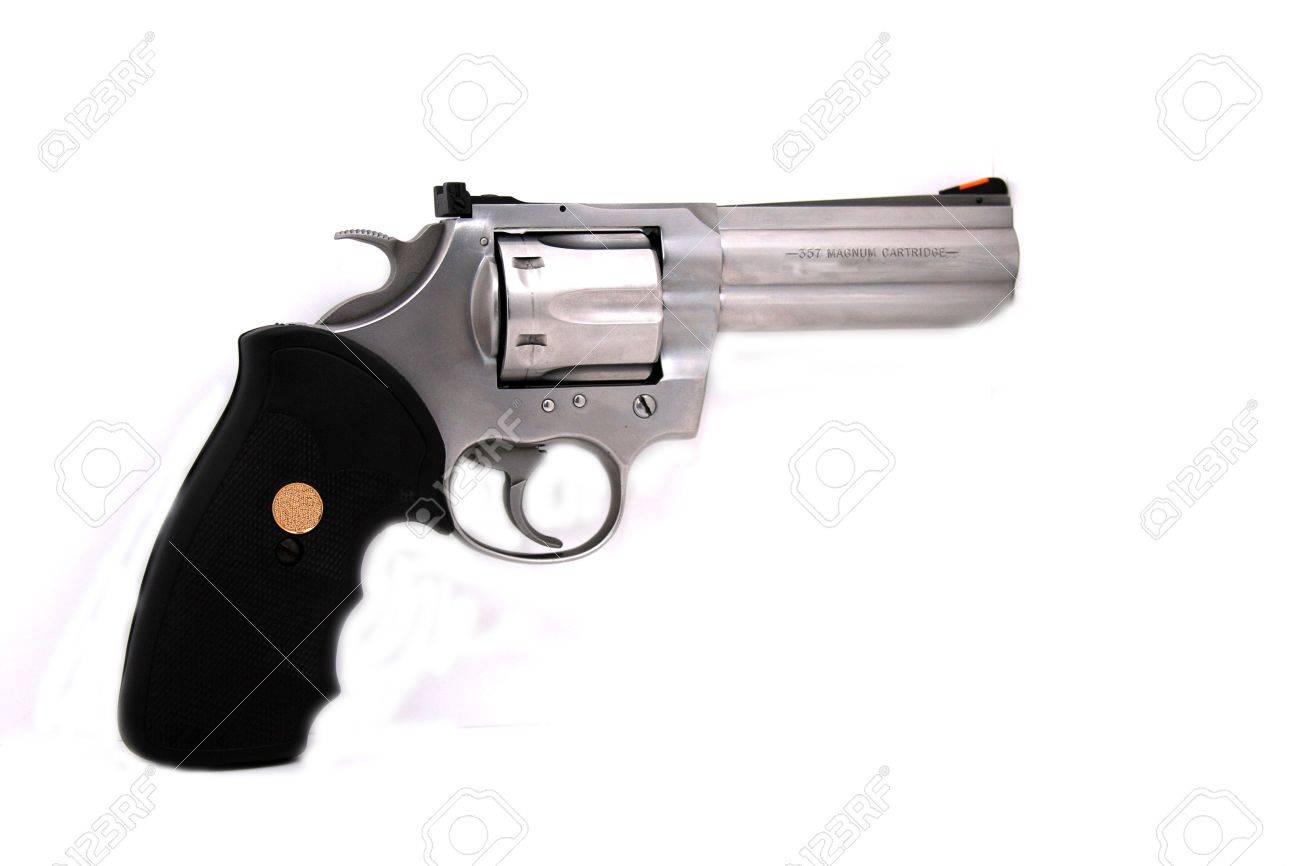Arma Real: (123, 174, 1026, 777)
